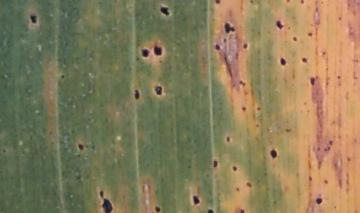tarspot: (102, 197, 113, 213), (223, 21, 236, 34), (153, 84, 163, 96), (159, 6, 170, 16), (133, 88, 141, 101), (154, 45, 163, 56), (269, 147, 278, 158), (141, 46, 149, 58), (193, 194, 201, 205), (275, 19, 283, 30), (238, 79, 247, 88), (77, 142, 85, 152), (279, 56, 287, 66), (213, 43, 222, 51), (245, 181, 253, 189), (306, 174, 314, 182), (300, 56, 308, 64), (212, 160, 219, 169), (31, 13, 37, 23), (310, 75, 315, 87), (154, 206, 162, 213), (315, 198, 323, 205), (234, 185, 241, 192), (240, 105, 247, 112), (255, 105, 262, 112), (323, 146, 330, 153), (225, 136, 231, 144), (292, 35, 298, 43), (284, 127, 292, 133), (232, 163, 237, 172), (323, 178, 329, 185), (242, 43, 248, 50), (328, 139, 333, 147), (60, 73, 66, 79), (99, 189, 104, 196), (2, 147, 7, 154), (207, 208, 213, 213), (308, 31, 313, 37), (336, 75, 342, 80), (337, 15, 342, 21), (322, 50, 327, 56), (214, 1, 221, 5), (300, 1, 305, 5), (240, 209, 243, 213), (286, 1, 291, 3)
